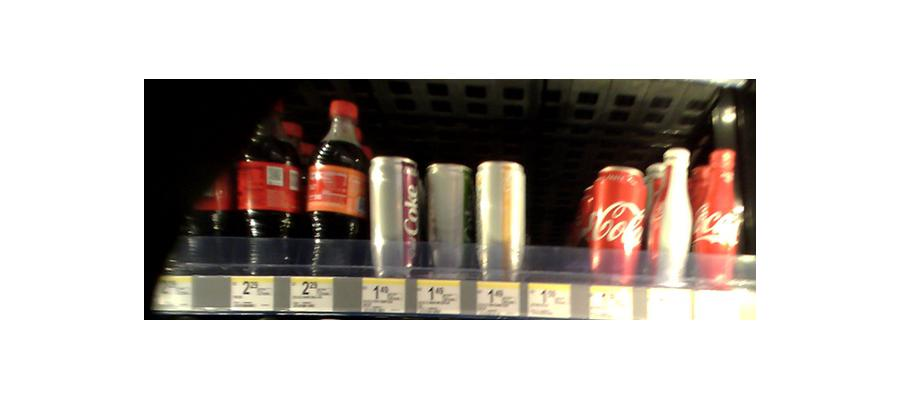bottle: (238, 99, 303, 275), (305, 102, 365, 275), (170, 131, 227, 274), (695, 146, 743, 289), (588, 164, 646, 281), (649, 149, 694, 290), (369, 154, 420, 277), (475, 159, 526, 281), (423, 156, 471, 276)
